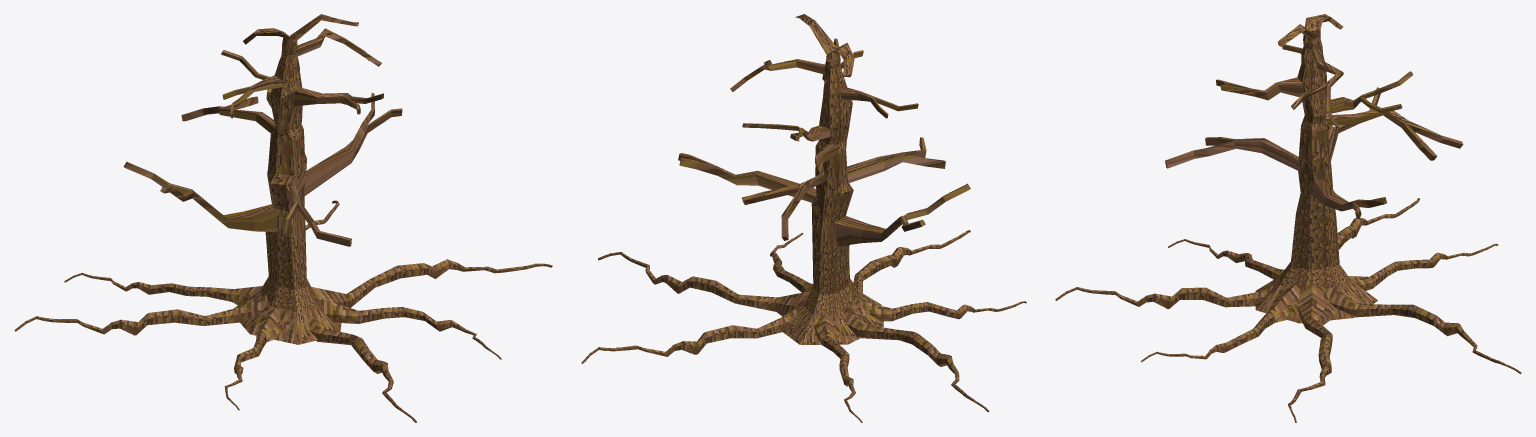
The model's file is DeadTree.fbx.
The picture shows the model from 3 angles, left to right: view 1: azimuth 30°, elevation 25°; view 2: azimuth 150°, elevation 25°; view 3: azimuth 270°, elevation 25°; orthographic projection. The views are drawn at different scales.
Parts seen in each view (by area): view 1: tree_dead; view 2: tree_dead; view 3: tree_dead.
Boxes of the visible parts, bbox=[...] form: tree_dead: bbox=[14, 14, 552, 422]; tree_dead: bbox=[581, 14, 1026, 422]; tree_dead: bbox=[1055, 14, 1521, 422].
Size of the model in its own units: 10.59 by 6.61 by 9.5.
